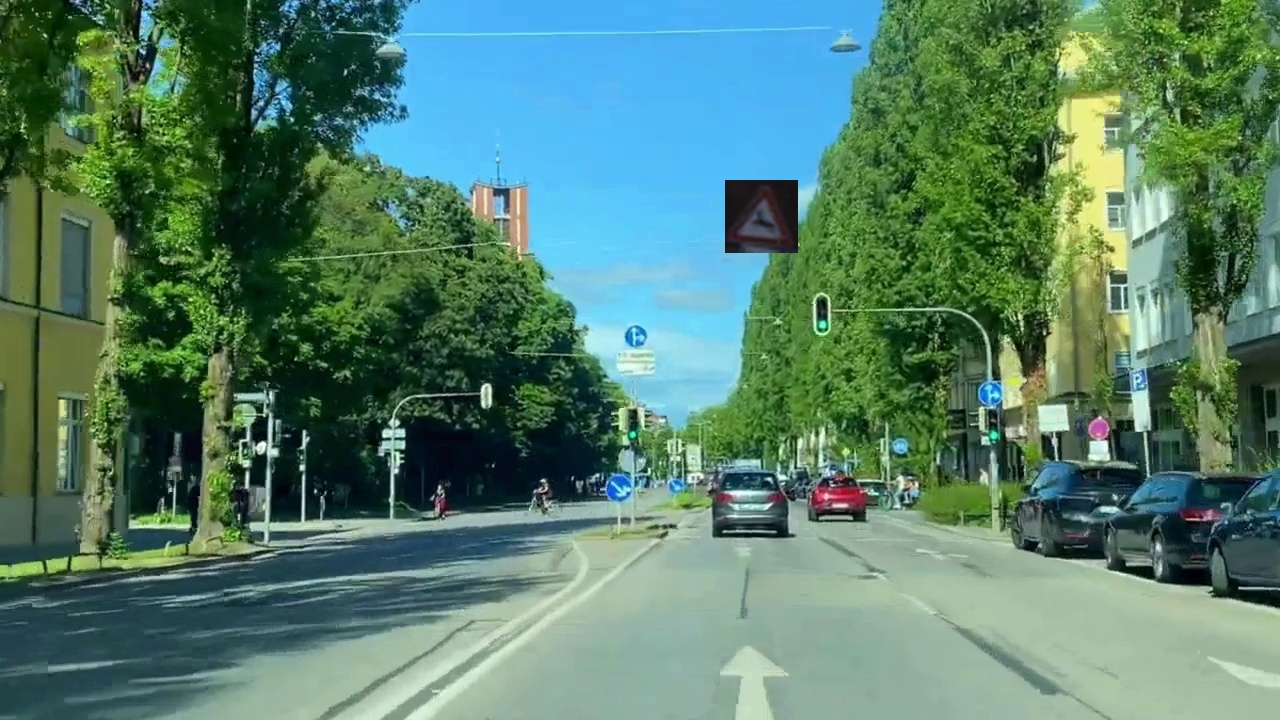Wild animals: (725, 180, 798, 253)
